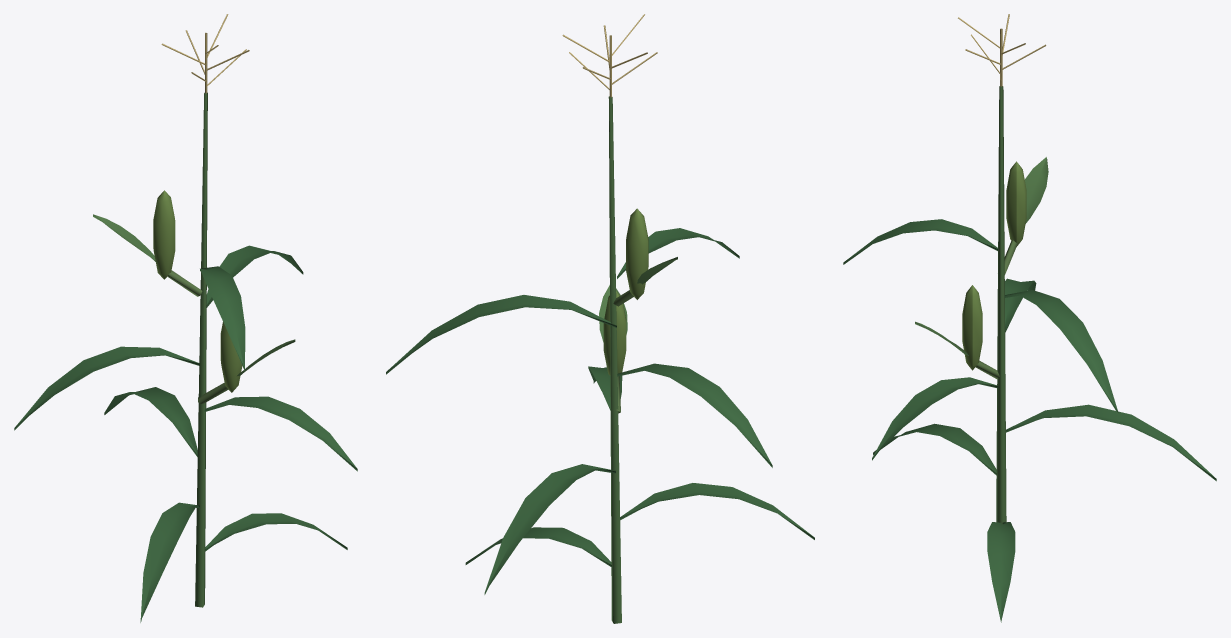
The model's file is maiz_duro.glb.
3 renders of one model, left to right at view 1: azimuth 30°, elevation 25°; view 2: azimuth 150°, elevation 25°; view 3: azimuth 270°, elevation 25°, orthographic. The views are drawn at different scales.
Parts seen in each view (by area): view 1: maiz_duro; view 2: maiz_duro; view 3: maiz_duro.
Boxes of the visible parts, bbox=[...] form: maiz_duro: bbox=[14, 14, 357, 622]; maiz_duro: bbox=[386, 14, 814, 623]; maiz_duro: bbox=[843, 14, 1216, 622].
Size of the model in its own units: 1.4 by 2.32 by 1.42.
